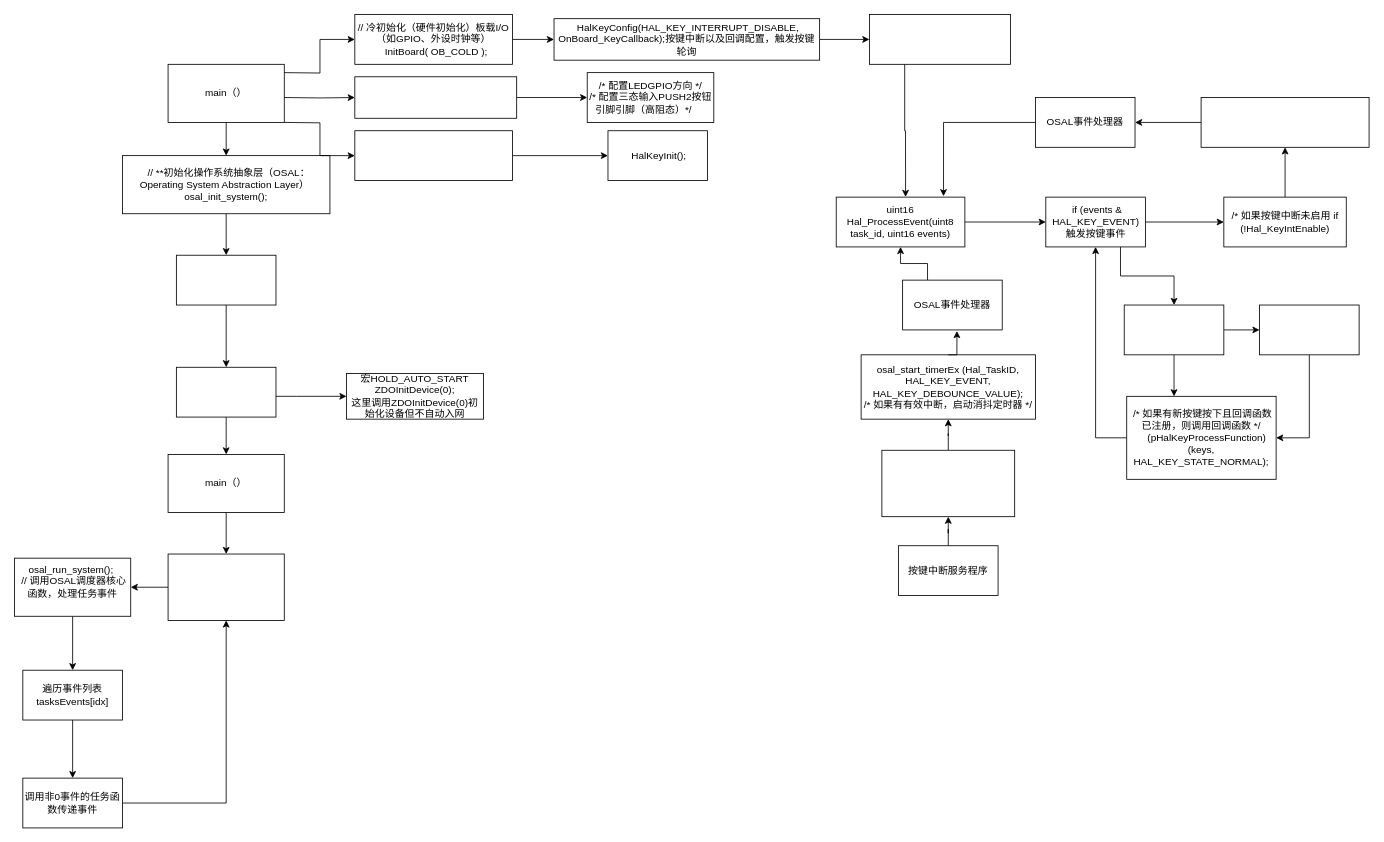
The diagram is 1384 pixels wide and 842 high, and some of its shapes have lost their labels. Each missing label, with the centre of its shape:
/* 启动第一次轮询事件 */ osal_set_event(Hal_TaskID, HAL_KEY_EVENT);: point (940, 39)
// 初始化板载硬件（如LED、按键等基础外设） HAL_BOARD_INIT();: point (435, 97)
// 初始化硬件抽象层（HAL）驱动（如定时器、ADC、SPI等） HalDriverInit();: point (433, 155)
// 启动OSAL调度系统 osal_start_system();: point (225, 586)
//分配任务函数id,初始化定义的任务 osalInitTasks();: point (226, 279)
HalKeyPoll(); // 轮询按键状态，处理按键状态: point (1173, 329)
halProcessKeyInterrupt(); // 处理按键中断: point (948, 483)
osal_start_timerEx(Hal_TaskID, HAL_KEY_EVENT, 100);//再次发送事件请求轮询: point (1284, 122)
SampleApp_Init( taskID ); // 初始化用户应用（最后一个任务）: point (226, 391)
中断启用直接在轮询处理: point (1309, 329)
